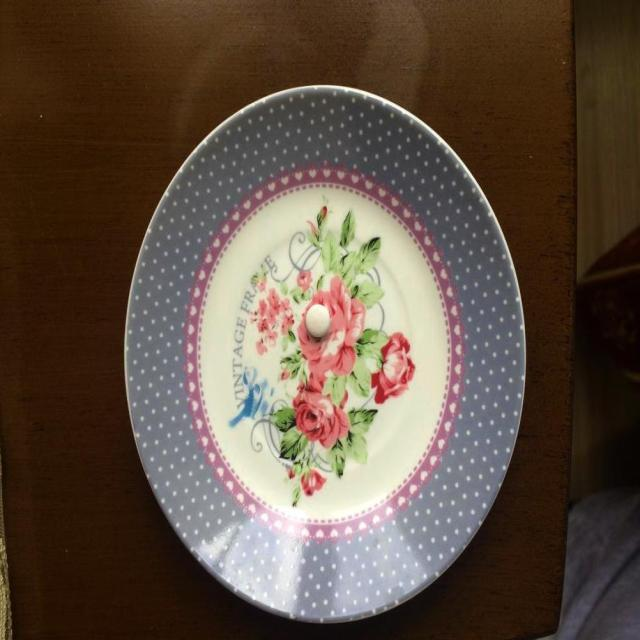pill: (304, 301, 332, 338)
